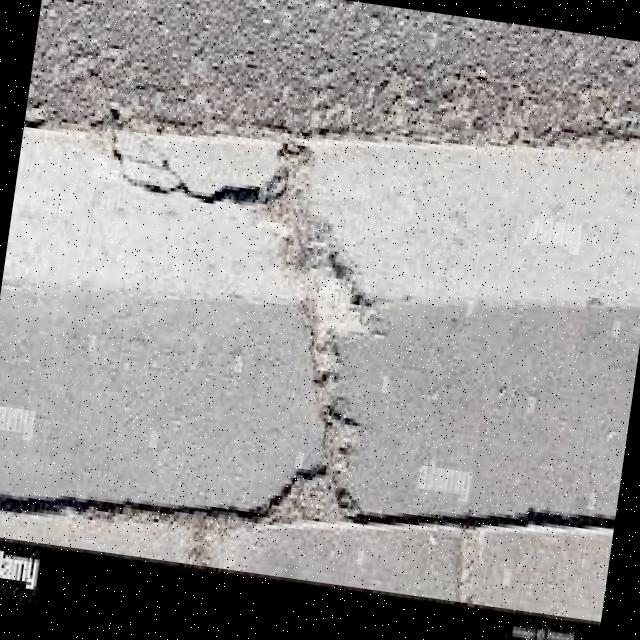curb: (1, 47, 640, 588)
